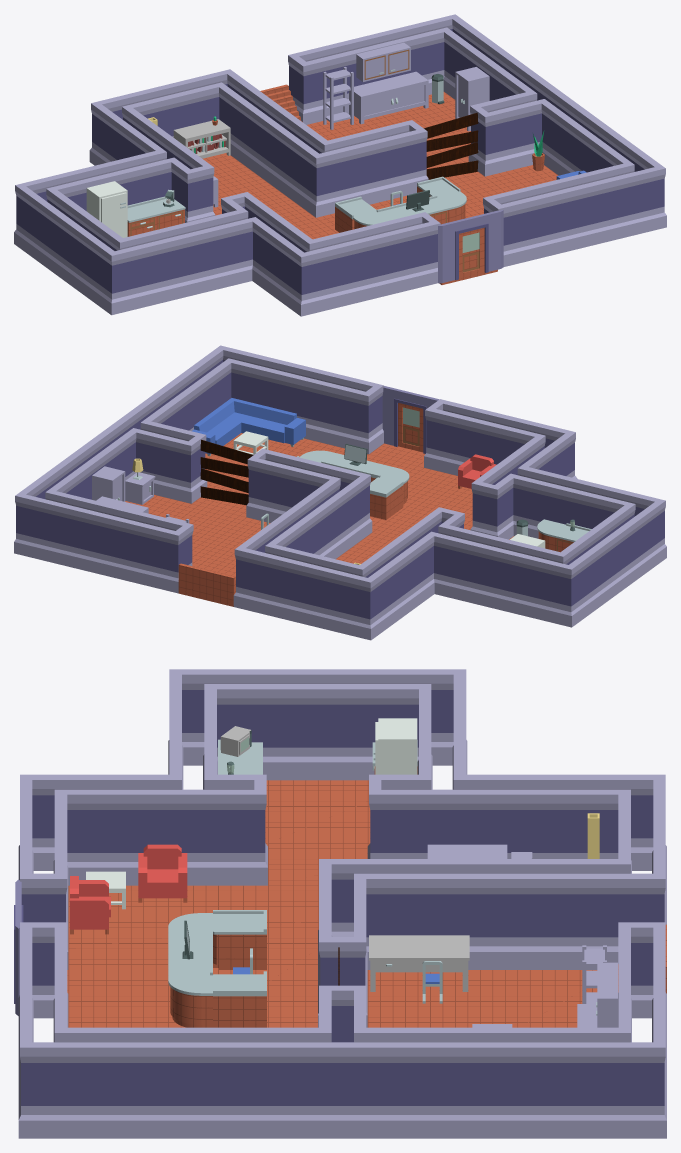
The model's file is Office1-05-F1.dae.
The picture shows the model from 3 angles, top to bottom: view 1: azimuth 30°, elevation 25°; view 2: azimuth 150°, elevation 25°; view 3: azimuth 270°, elevation 25°; orthographic projection. The views are drawn at different scales.
Parts seen in each view (by area): view 1: wall (×26), wall_corner (×20), porch_floorCenter (×3), doorway_doorWoodWindow, cabinetTelevisionDoors, barricade_large, kitchenFridge, kitchenCabinetUpper (×2), kitchenCabinetCornerInner (×2), bookcaseClosedDoors, bookcaseOpen, cabinetTelevision (+4 smaller); view 2: wall (×26), wall_corner (×19), porch_floorCenter (×5), loungeDesignSofaCorner, doorway_doorWoodWindow, barricade_large, stairs_small_x0025_, kitchenCabinetCornerInner, bookcaseClosedDoors, loungeChair, cabinetBed, tableCoffeeSquare (+2 smaller); view 3: wall (×24), porch_floorCenter (×5), wall_corner (×22), kitchenCabinetCornerInner (×2), loungeChair (×2), desk, kitchenCabinetCornerRound (×2), kitchenFridge, kitchenCabinet (×2), cabinetTelevisionDoors, kitchenCabinetUpper, bookcaseOpen (+3 smaller).
Part boxes in pixels (left/top/right/bottom): wall (×26): left=24, top=18, right=655, bottom=311; wall_corner (×20): left=14, top=27, right=666, bottom=316; porch_floorCenter (×3): left=202, top=92, right=558, bottom=239; doorway_doorWoodWindow: left=438, top=210, right=503, bottom=283; cabinetTelevisionDoors: left=349, top=71, right=428, bottom=124; barricade_large: left=424, top=112, right=478, bottom=179; kitchenFridge: left=86, top=181, right=127, bottom=237; kitchenCabinetUpper (×2): left=356, top=42, right=410, bottom=81; kitchenCabinetCornerInner (×2): left=335, top=176, right=460, bottom=232; bookcaseClosedDoors: left=455, top=67, right=489, bottom=131; bookcaseOpen: left=323, top=67, right=353, bottom=129; cabinetTelevision: left=173, top=119, right=230, bottom=158; wall (×26): left=25, top=349, right=656, bottom=635; wall_corner (×19): left=14, top=358, right=666, bottom=640; porch_floorCenter (×5): left=125, top=433, right=472, bottom=578; loungeDesignSofaCorner: left=192, top=398, right=305, bottom=456; doorway_doorWoodWindow: left=382, top=386, right=439, bottom=453; barricade_large: left=200, top=439, right=253, bottom=505; stairs_small_x0025_: left=178, top=563, right=235, bottom=606; kitchenCabinetCornerInner: left=370, top=477, right=403, bottom=519; bookcaseClosedDoors: left=92, top=466, right=125, bottom=501; loungeChair: left=458, top=454, right=496, bottom=488; cabinetBed: left=125, top=472, right=155, bottom=504; tableCoffeeSquare: left=233, top=431, right=268, bottom=454; wall (×24): left=18, top=669, right=666, bottom=1138; porch_floorCenter (×5): left=68, top=780, right=597, bottom=1027; wall_corner (×22): left=18, top=669, right=666, bottom=1138; kitchenCabinetCornerInner (×2): left=213, top=910, right=266, bottom=1027; loungeChair (×2): left=70, top=844, right=187, bottom=934; desk: left=369, top=935, right=469, bottom=991; kitchenCabinetCornerRound (×2): left=168, top=913, right=212, bottom=1027; kitchenFridge: left=373, top=718, right=417, bottom=774; kitchenCabinet (×2): left=168, top=929, right=212, bottom=974; cabinetTelevisionDoors: left=427, top=844, right=507, bottom=858; kitchenCabinetUpper: left=596, top=980, right=617, bottom=1027; bookcaseOpen: left=582, top=945, right=606, bottom=1003.
Size of the model in its own units: 18 by 2.1 by 13.09.
